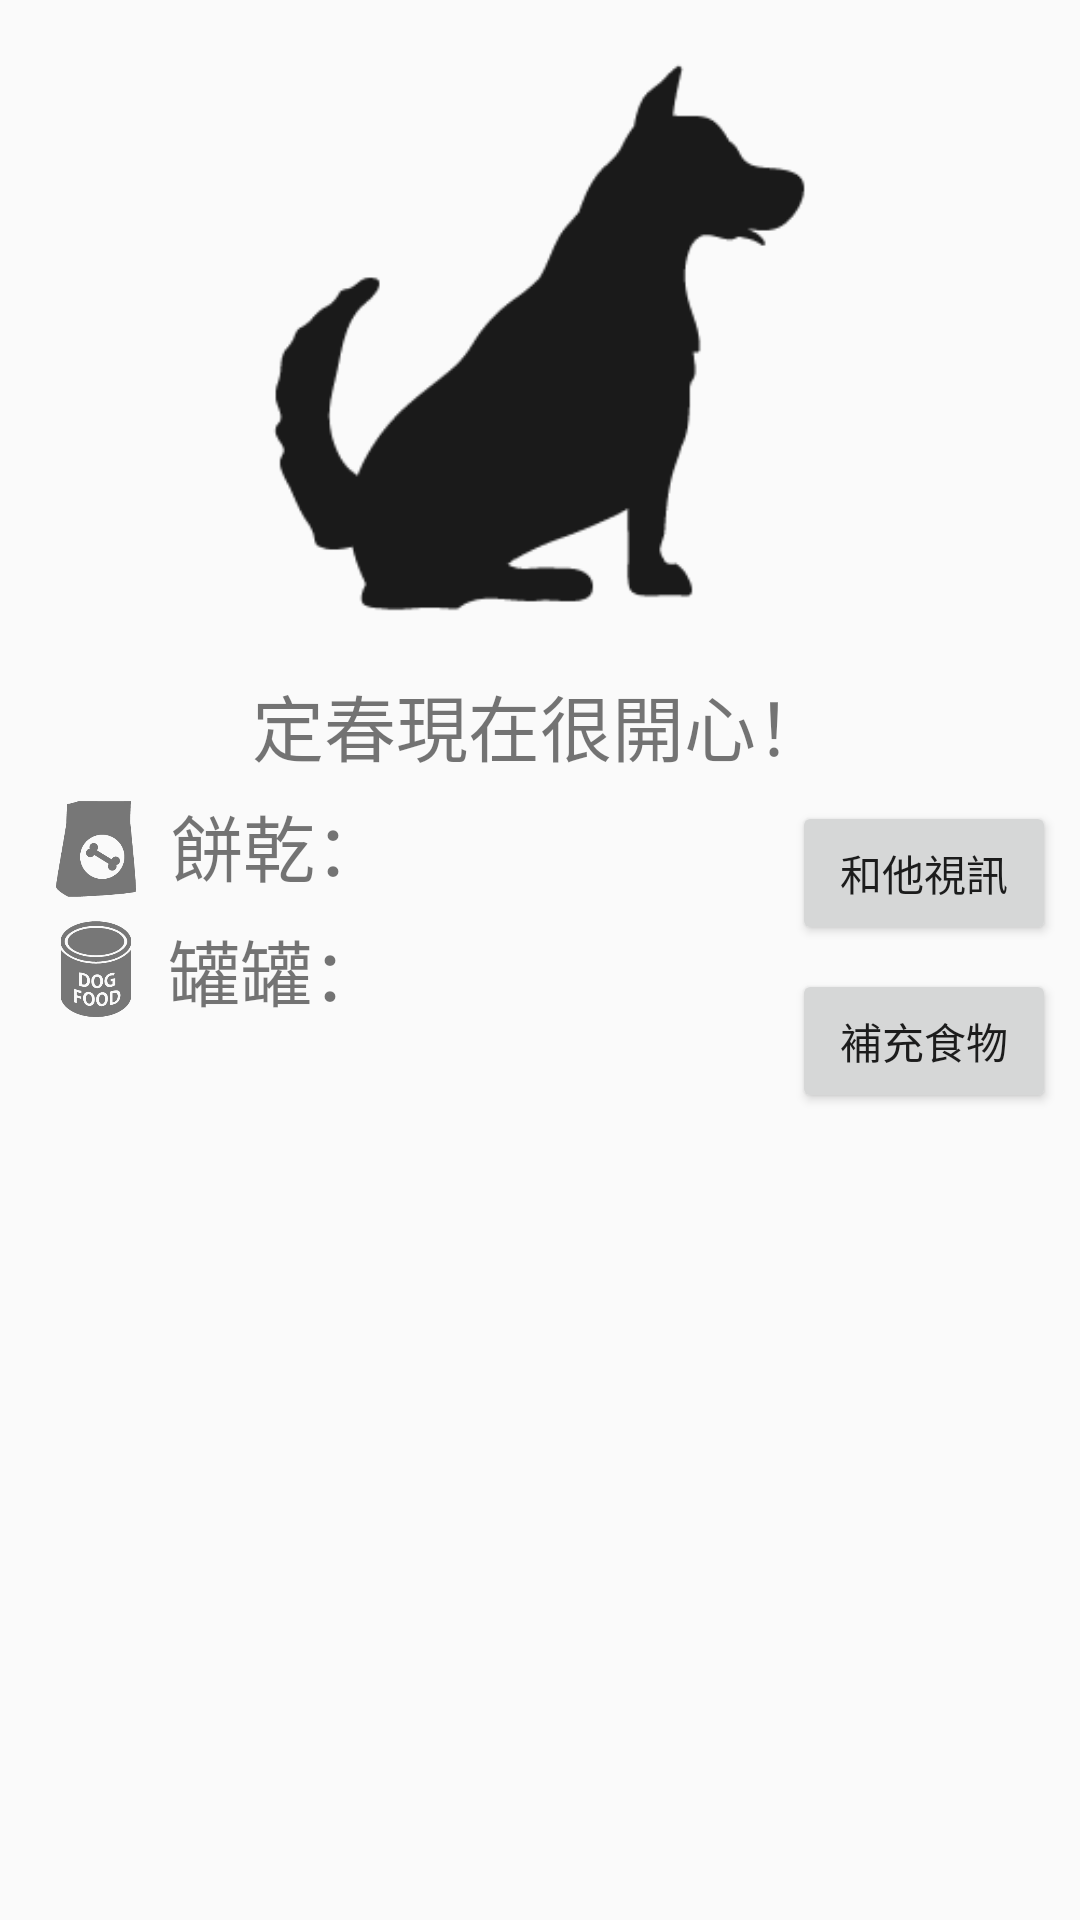

Where icons sit on this 1080w x 1920h app screen, as (x1, y1, x2, y2):
can: (61, 921, 131, 1017)
cookie: (56, 801, 136, 897)
